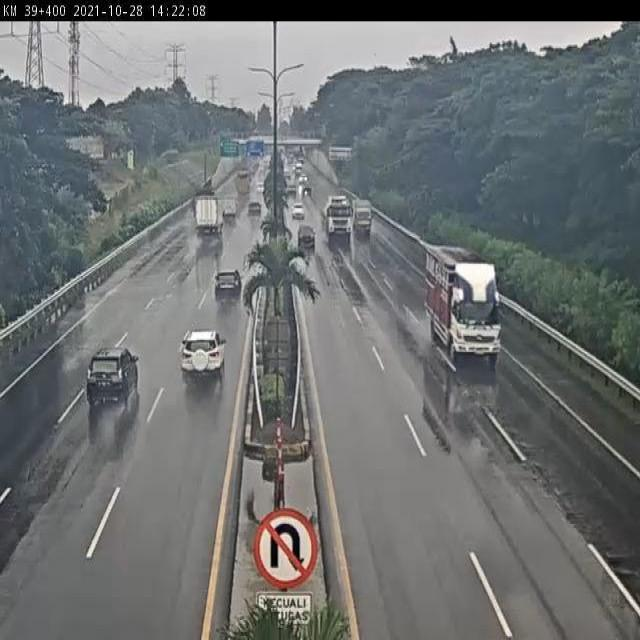car: (80, 344, 143, 415), (178, 328, 228, 388), (211, 266, 243, 302), (296, 223, 315, 248)
truck-l-: (422, 243, 500, 357), (191, 196, 223, 240)
truck-s-: (353, 196, 375, 237)
truck-xl-: (320, 193, 352, 240)
